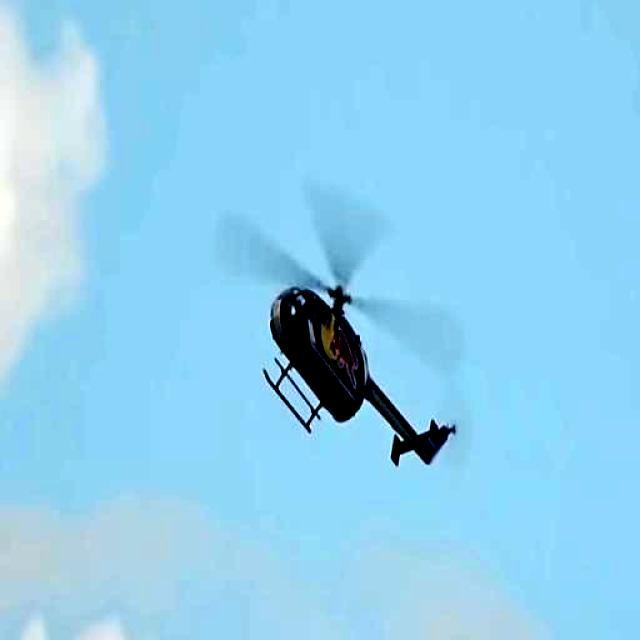drone: (249, 211, 480, 521)
